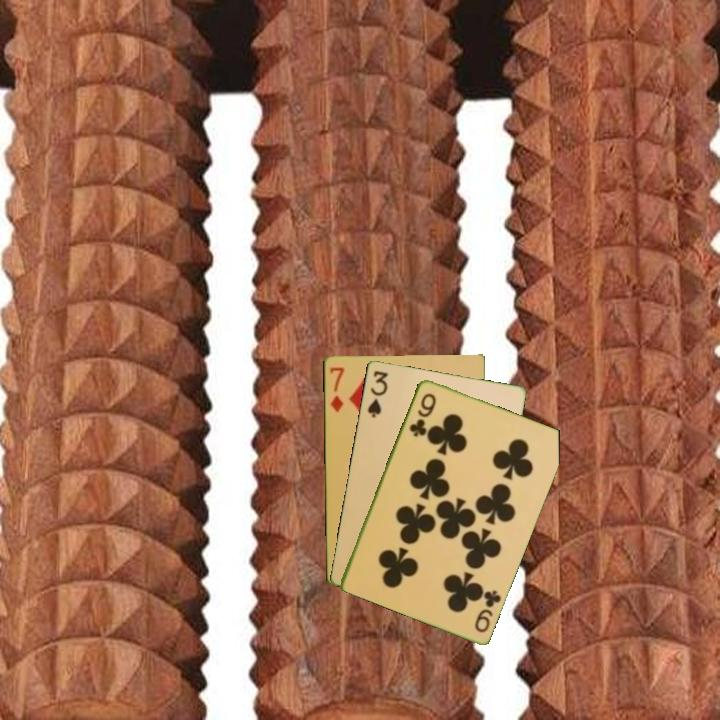3s: (364, 367, 391, 420)
7d: (326, 363, 347, 415)
9c: (405, 389, 439, 440), (471, 586, 504, 635)
